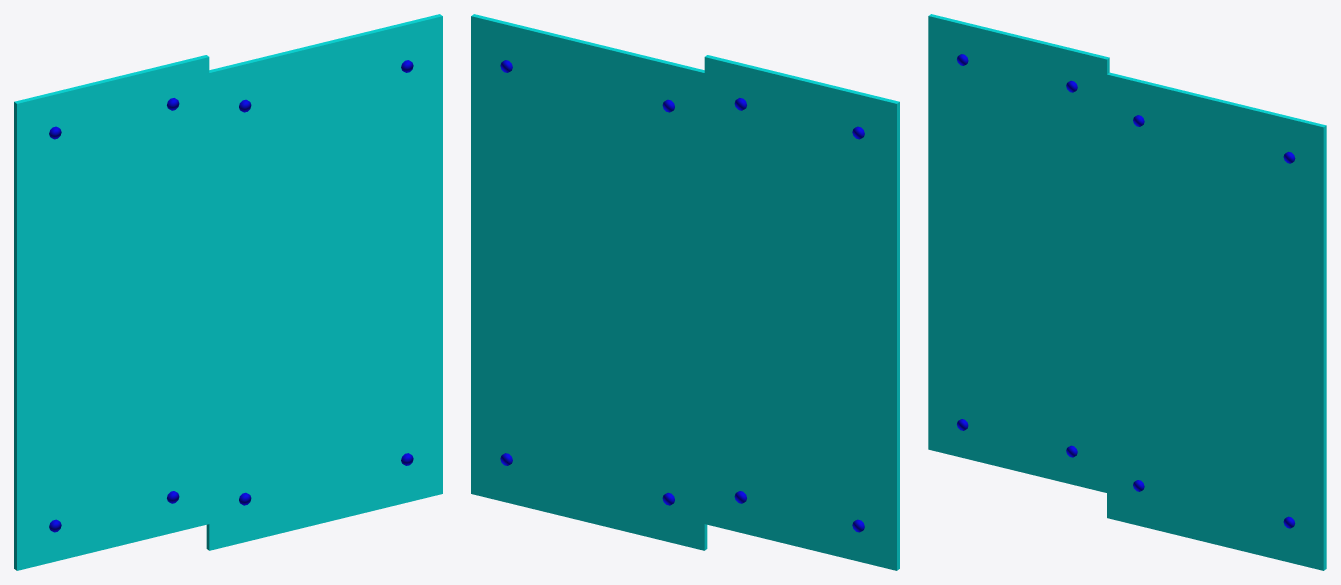
Rendered from cuadro_06_low.fbx.
3 renders of one model, left to right at view 1: azimuth 30°, elevation 25°; view 2: azimuth 150°, elevation 25°; view 3: azimuth 330°, elevation 25°, orthographic. The views are drawn at different scales.
Visible parts, largest first — view 1: cuadro_izq, cuadro_der; view 2: cuadro_izq, cuadro_der; view 3: cuadro_izq, cuadro_der.
Part boxes in pixels (left/top/right/bottom): cuadro_izq: left=206, top=14, right=442, bottom=550; cuadro_der: left=14, top=55, right=209, bottom=570; cuadro_izq: left=471, top=14, right=707, bottom=550; cuadro_der: left=704, top=55, right=899, bottom=570; cuadro_izq: left=1107, top=72, right=1326, bottom=570; cuadro_der: left=928, top=14, right=1109, bottom=492.
Bounding box in the file's own units: 83 × 92 × 2.
